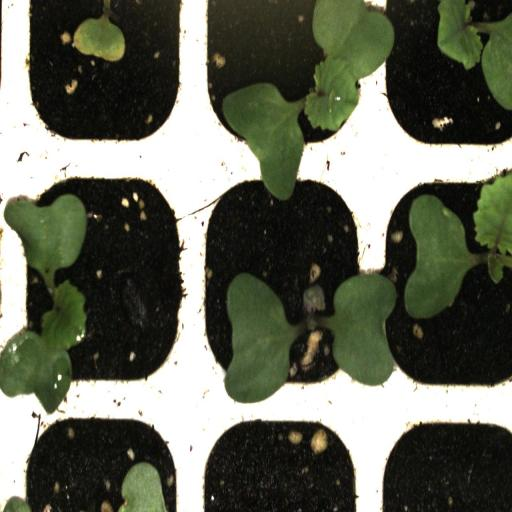seedling: (191, 154, 374, 410), (12, 152, 190, 403), (377, 152, 512, 412), (199, 0, 376, 145)
weak: (16, 0, 191, 143)
